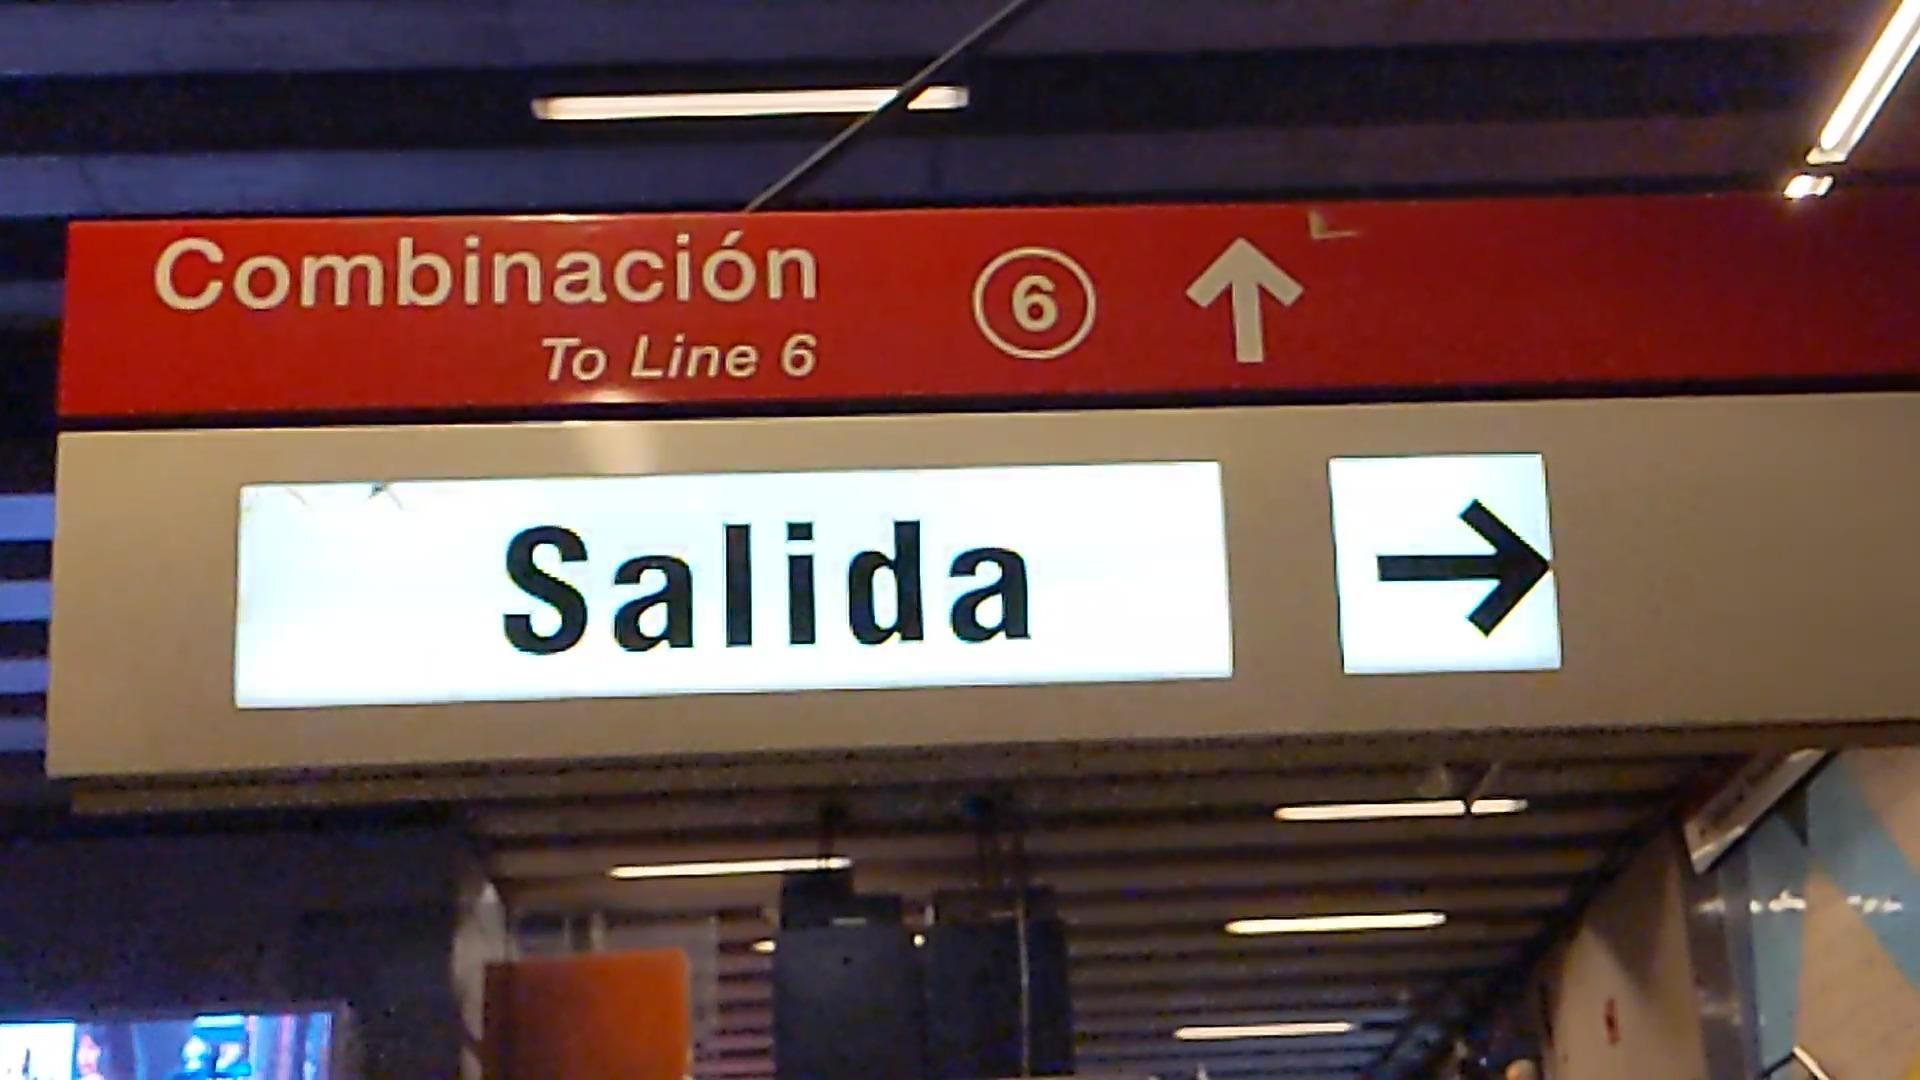right arrow: (1373, 491, 1555, 640)
up arrow: (1178, 233, 1308, 371)
